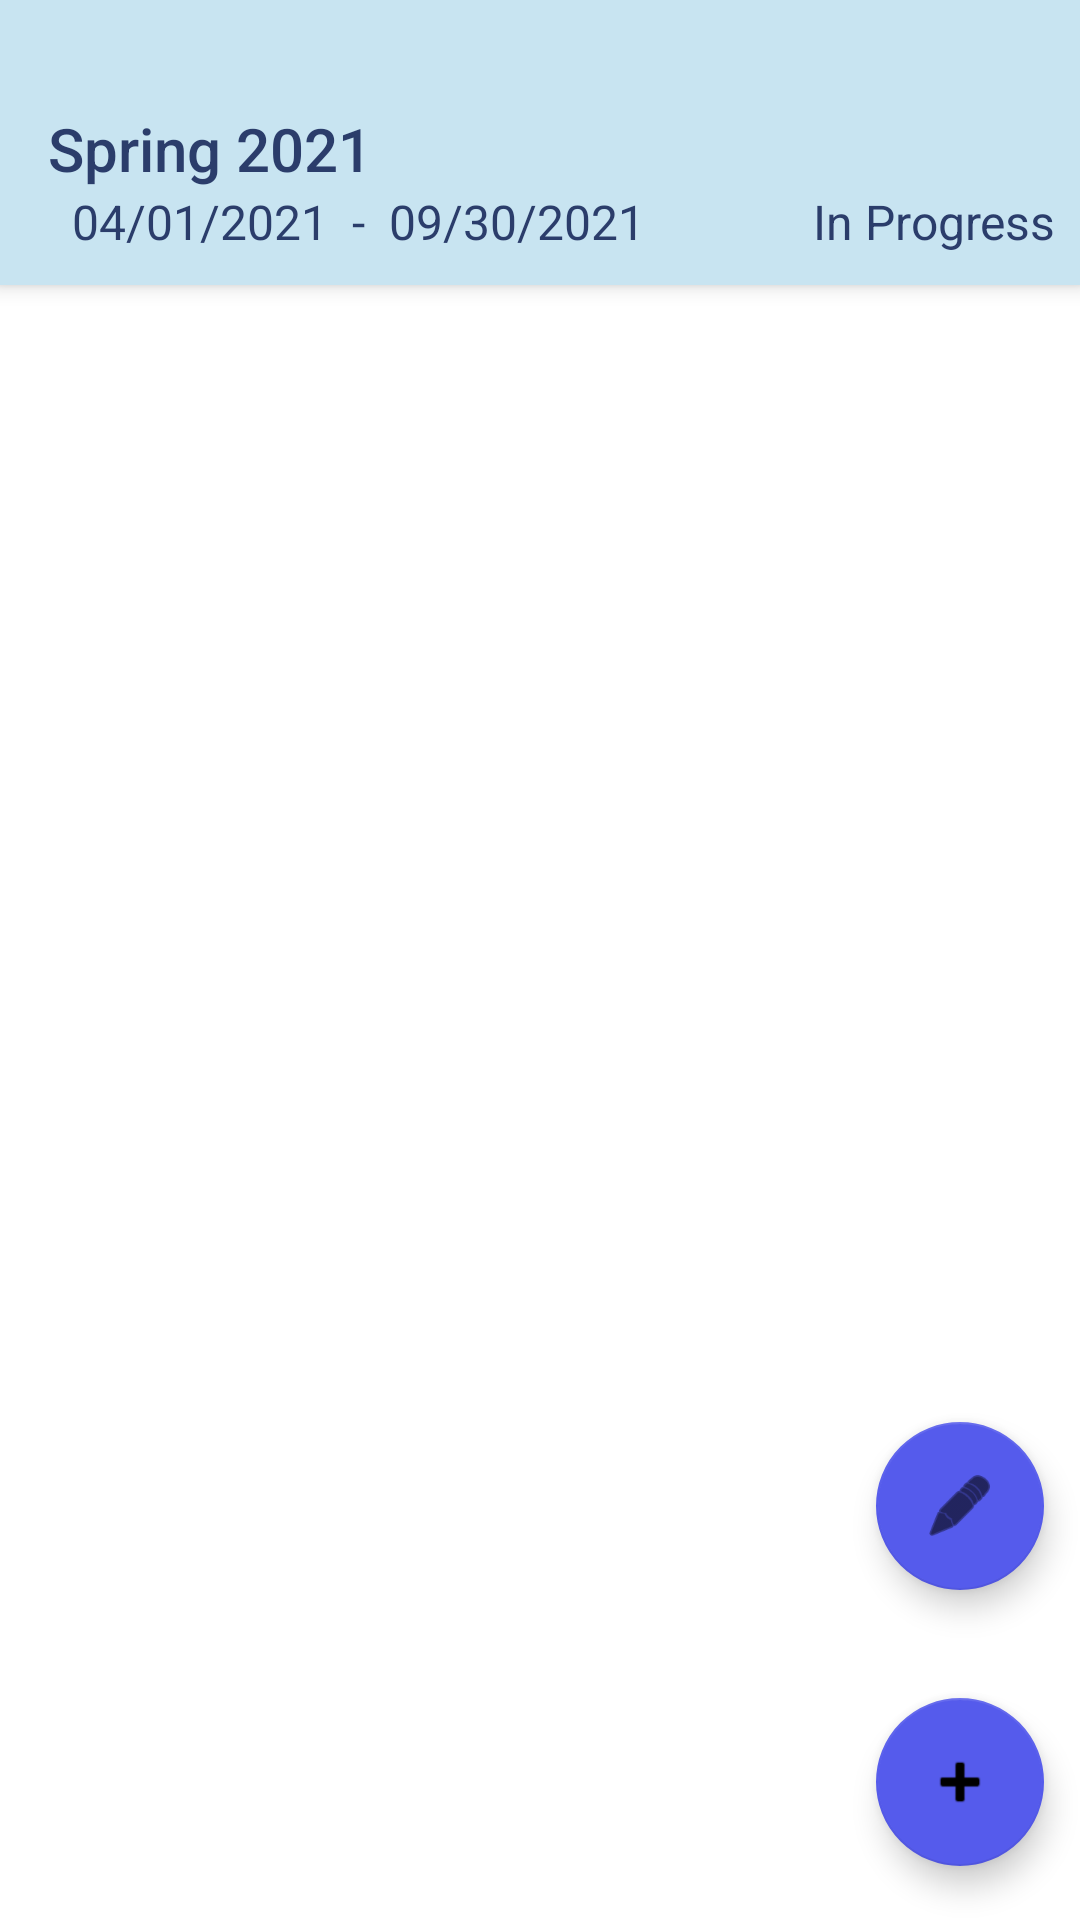

Point at icon controls on the screen. Image size 1080×1920, points as (x,y).
add: (961,1791)
edit: (961,1513)
